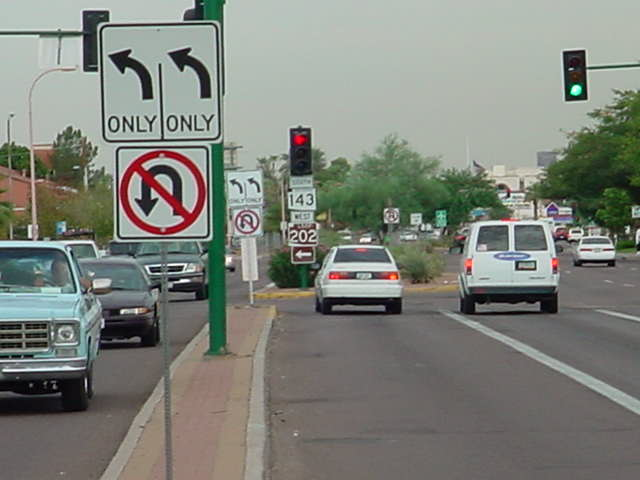No_u_turn: (116, 150, 204, 234)
